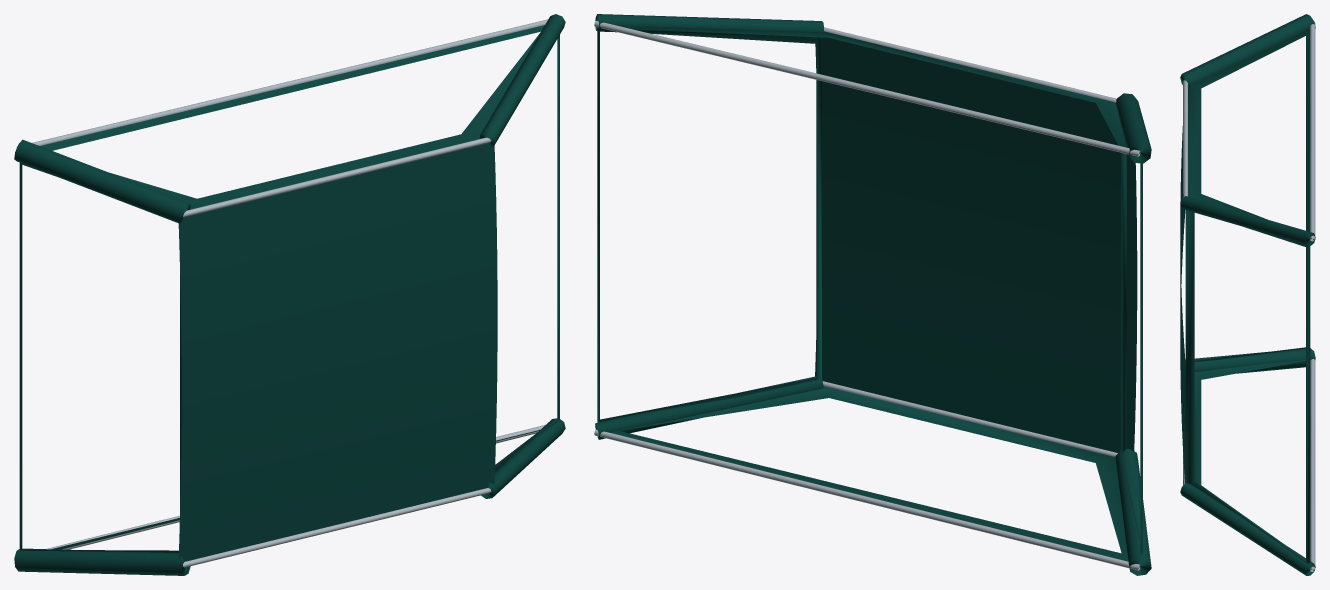
Rendered from Car70Roof1.obj.
The picture shows the model from 3 angles, left to right: view 1: azimuth 30°, elevation 25°; view 2: azimuth 150°, elevation 25°; view 3: azimuth 270°, elevation 25°; orthographic projection. The views are drawn at different scales.
Visible parts, largest first — view 1: Car70Roof1; view 2: Car70Roof1; view 3: Car70Roof1.
Part boxes in pixels (x1=…): Car70Roof1: x1=14, y1=14, x2=565, y2=575; Car70Roof1: x1=594, y1=14, x2=1151, y2=575; Car70Roof1: x1=1180, y1=14, x2=1315, y2=575.
Bounding box in the file's own units: 234 × 174 × 60.99.
